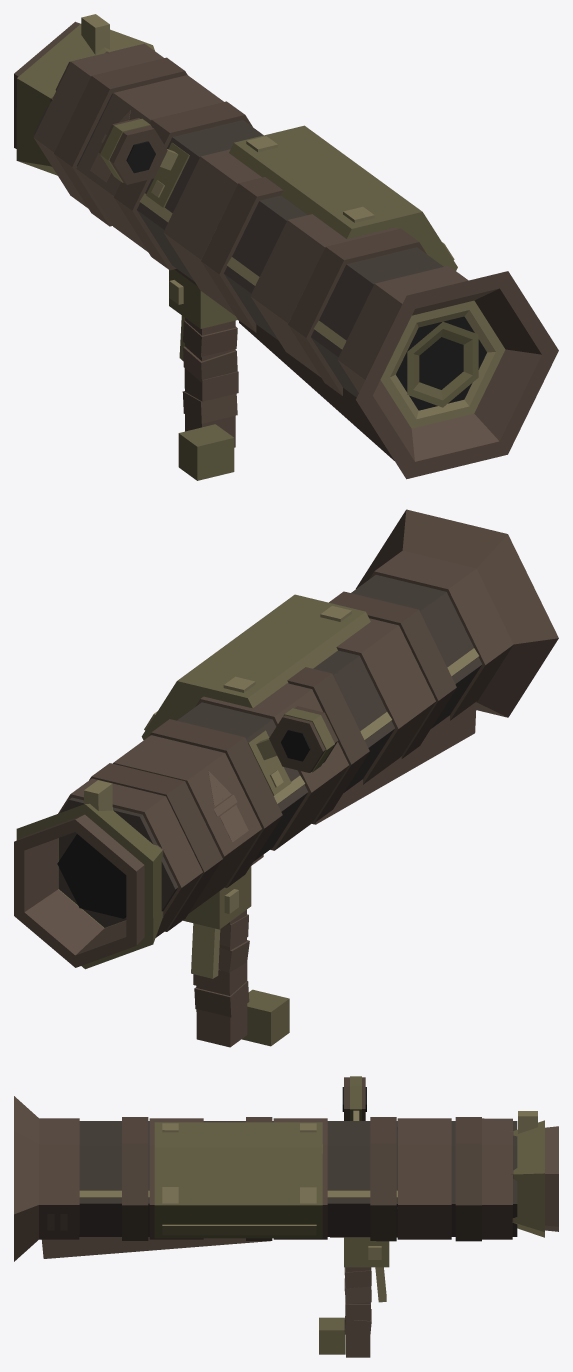
File: Gnome Rocket Launcher.fbx
The picture shows the model from 3 angles, top to bottom: view 1: azimuth 30°, elevation 25°; view 2: azimuth 150°, elevation 25°; view 3: azimuth 270°, elevation 25°; orthographic projection. The views are drawn at different scales.
Parts seen in each view (by area): view 1: Gnome Rocket Launcher; view 2: Gnome Rocket Launcher; view 3: Gnome Rocket Launcher.
Part boxes in pixels (<box>): Gnome Rocket Launcher: <box>14,14,558,480</box>; Gnome Rocket Launcher: <box>14,509,558,1047</box>; Gnome Rocket Launcher: <box>14,1076,558,1357</box>.
Size of the model in its own units: 145 by 223 by 446.
